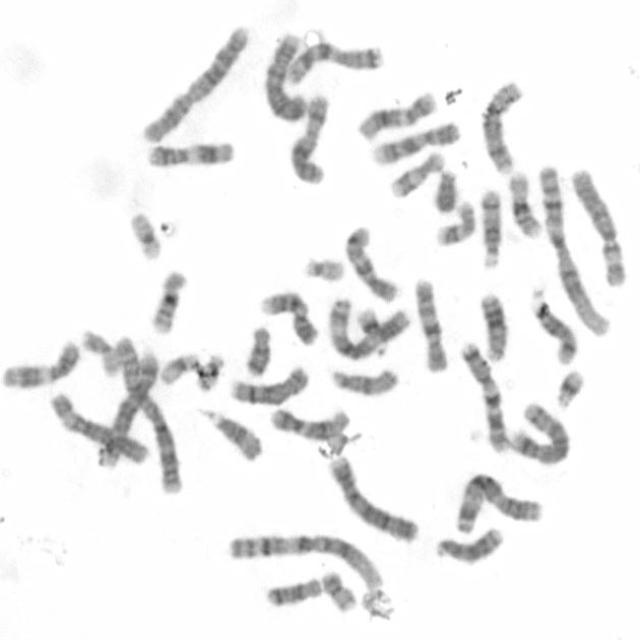A1: (536, 164, 614, 340), (226, 532, 387, 592)
A2: (141, 20, 252, 146), (114, 334, 185, 497)
A3: (453, 472, 546, 534), (327, 295, 412, 360)
B4: (327, 454, 421, 544), (263, 29, 308, 122)
B5: (100, 348, 158, 469), (508, 400, 569, 467)
C10: (342, 223, 402, 305), (412, 276, 451, 376)
C11: (0, 334, 82, 391), (146, 140, 236, 170)
C12: (354, 86, 438, 143), (269, 407, 353, 441)
C6: (47, 387, 151, 467), (568, 167, 628, 290)
C7: (457, 340, 509, 456), (284, 42, 386, 86)
C8: (481, 76, 521, 176), (227, 365, 311, 407)
C9: (371, 118, 460, 170), (256, 289, 319, 347)
D13: (434, 526, 505, 564), (476, 290, 511, 364)
D14: (528, 286, 579, 367), (479, 188, 503, 269)
D15: (194, 406, 262, 466), (331, 364, 402, 398)
E16: (507, 170, 543, 240), (150, 268, 188, 334)
E17: (388, 149, 448, 201), (432, 200, 477, 248)
E18: (260, 574, 323, 608), (245, 322, 272, 378)
F19: (128, 211, 164, 263), (158, 348, 201, 389)
F20: (79, 328, 122, 378), (322, 567, 359, 614)
G21: (355, 305, 391, 360), (553, 369, 584, 412)
G22: (303, 253, 345, 284), (196, 351, 226, 392)
X: (288, 92, 332, 187)
Y: (433, 166, 459, 214)
